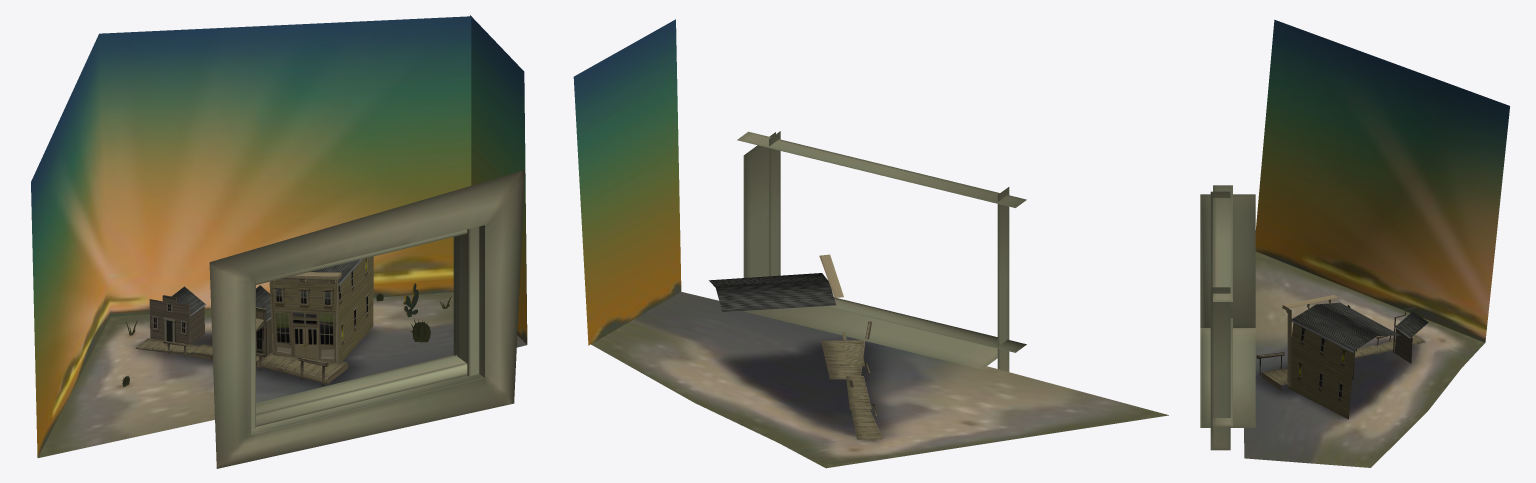
Rendered from WesternMainStreetView.glb.
3 renders of one model, left to right at view 1: azimuth 30°, elevation 25°; view 2: azimuth 150°, elevation 25°; view 3: azimuth 270°, elevation 25°, orthographic. The views are drawn at different scales.
Visible parts, largest first — view 1: polySurface28, WindowFrame, Ground, polySurface29, polySurface25, windowBar2, windowBar3, polySurface14, polySurface30, pCube24, windowBar, windowBar1 (+1 smaller); view 2: Ground, polySurface29, WindowFrame, windowBar, polySurface33, windowBar2, windowBar1, windowBar3, pCube24, polySurface15, waLK, pCube25; view 3: polySurface28, Ground, WindowFrame, polySurface14, windowBar3, windowBar, polySurface15, polySurface33, polySurface32, windowBar2, polySurface31, windowBar1 (+2 smaller).
Boxes of the visible parts, left/top/right/bottom form: polySurface28: left=31, top=16, right=471, bottom=457; WindowFrame: left=209, top=170, right=524, bottom=468; Ground: left=38, top=292, right=526, bottom=457; polySurface29: left=470, top=15, right=527, bottom=344; polySurface25: left=269, top=278, right=338, bottom=361; windowBar2: left=213, top=355, right=467, bottom=426; windowBar3: left=457, top=226, right=479, bottom=376; polySurface14: left=338, top=256, right=373, bottom=361; polySurface30: left=149, top=299, right=189, bottom=343; pCube24: left=259, top=352, right=348, bottom=383; windowBar: left=256, top=229, right=467, bottom=284; windowBar1: left=251, top=281, right=255, bottom=429; Ground: left=591, top=292, right=1168, bottom=468; polySurface29: left=573, top=19, right=681, bottom=345; WindowFrame: left=743, top=132, right=997, bottom=369; windowBar: left=737, top=131, right=1026, bottom=207; polySurface33: left=716, top=282, right=835, bottom=311; windowBar2: left=824, top=297, right=1026, bottom=352; windowBar1: left=997, top=187, right=1009, bottom=371; windowBar3: left=769, top=131, right=780, bottom=276; pCube24: left=821, top=340, right=864, bottom=379; polySurface15: left=709, top=273, right=828, bottom=287; waLK: left=851, top=409, right=882, bottom=439; pCube25: left=846, top=376, right=871, bottom=409; polySurface28: left=1255, top=19, right=1509, bottom=342; Ground: left=1244, top=251, right=1484, bottom=467; WindowFrame: left=1200, top=194, right=1255, bottom=427; polySurface14: left=1288, top=319, right=1355, bottom=419; windowBar3: left=1210, top=287, right=1230, bottom=450; windowBar: left=1213, top=185, right=1232, bottom=301; polySurface15: left=1291, top=304, right=1376, bottom=353; polySurface33: left=1316, top=302, right=1400, bottom=335; polySurface32: left=1395, top=311, right=1428, bottom=338; windowBar2: left=1213, top=318, right=1232, bottom=426; polySurface31: left=1395, top=328, right=1412, bottom=363; windowBar1: left=1210, top=191, right=1230, bottom=287.
Bounding box in the file's own units: 17.83 × 9.73 × 10.77.
Materials: 15 (15 with a texture image).
